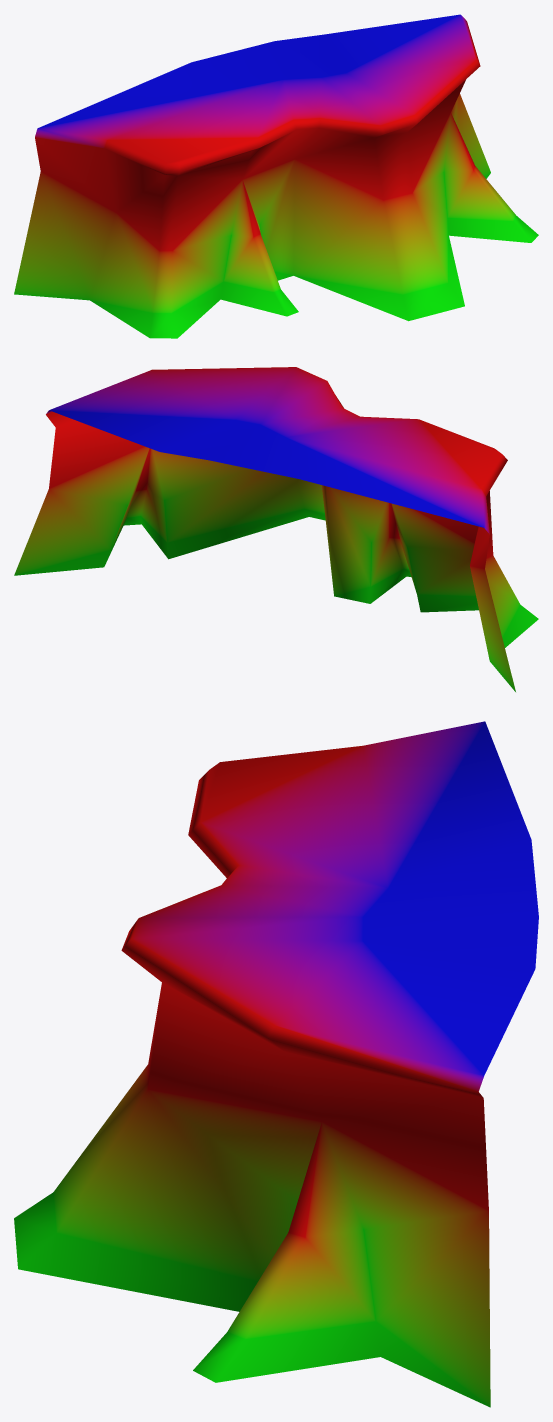
File: M_Rock_Cliff_B.FBX
3 renders of one model, top to bottom at view 1: azimuth 30°, elevation 25°; view 2: azimuth 150°, elevation 25°; view 3: azimuth 270°, elevation 25°, orthographic. The views are drawn at different scales.
Parts seen in each view (by area): view 1: Rock_Cliff_B; view 2: Rock_Cliff_B; view 3: Rock_Cliff_B.
Boxes of the visible parts, x1,y1,x2,y2 form: Rock_Cliff_B: (14, 14, 538, 338); Rock_Cliff_B: (14, 367, 538, 691); Rock_Cliff_B: (14, 721, 538, 1407).
Size of the model in its own units: 439 by 152 by 228.
